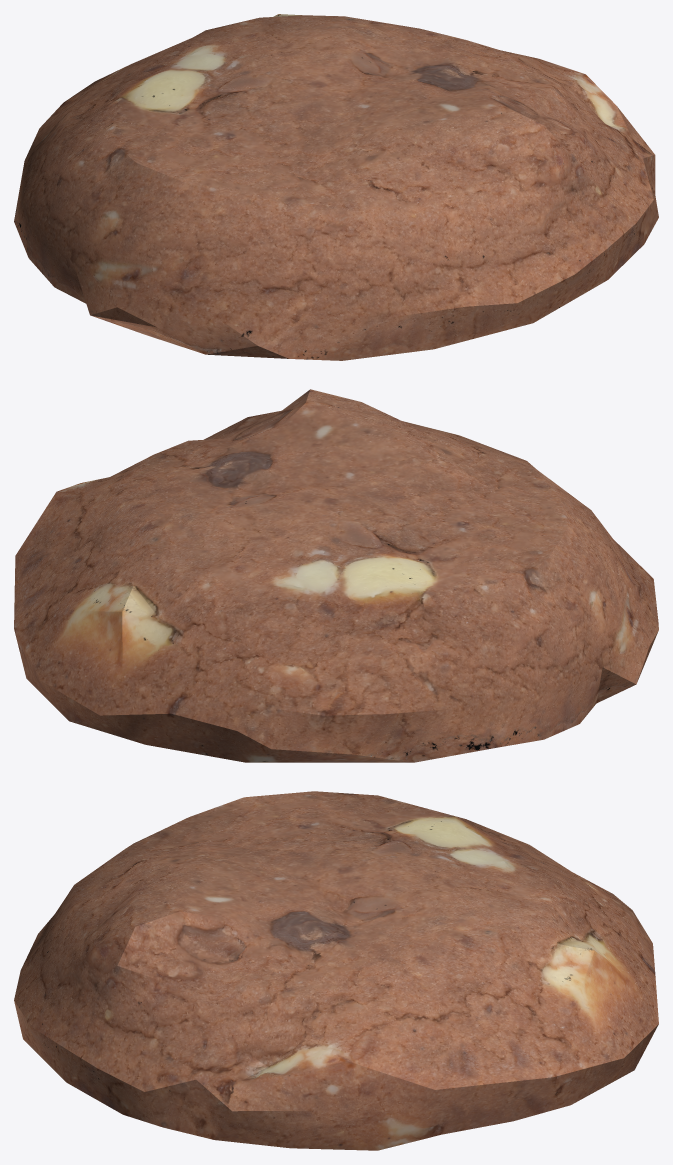
File: Cookie.gltf
The picture shows the model from 3 angles, top to bottom: view 1: azimuth 30°, elevation 25°; view 2: azimuth 150°, elevation 25°; view 3: azimuth 270°, elevation 25°; orthographic projection. The views are drawn at different scales.
Visible parts, largest first — view 1: 3DCookie001_LQ-2K-PNG; view 2: 3DCookie001_LQ-2K-PNG; view 3: 3DCookie001_LQ-2K-PNG.
Part boxes in pixels (<box>): 3DCookie001_LQ-2K-PNG: <box>14,14,658,360</box>; 3DCookie001_LQ-2K-PNG: <box>14,389,658,762</box>; 3DCookie001_LQ-2K-PNG: <box>14,791,658,1150</box>.
Bounding box in the file's own units: 0.0804 × 0.0226 × 0.0794.
1 material, 1 textured.
